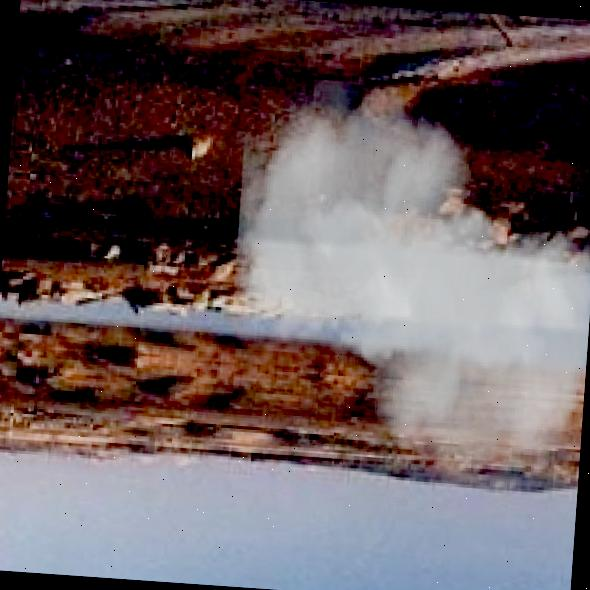smoke: (221, 74, 590, 495)
